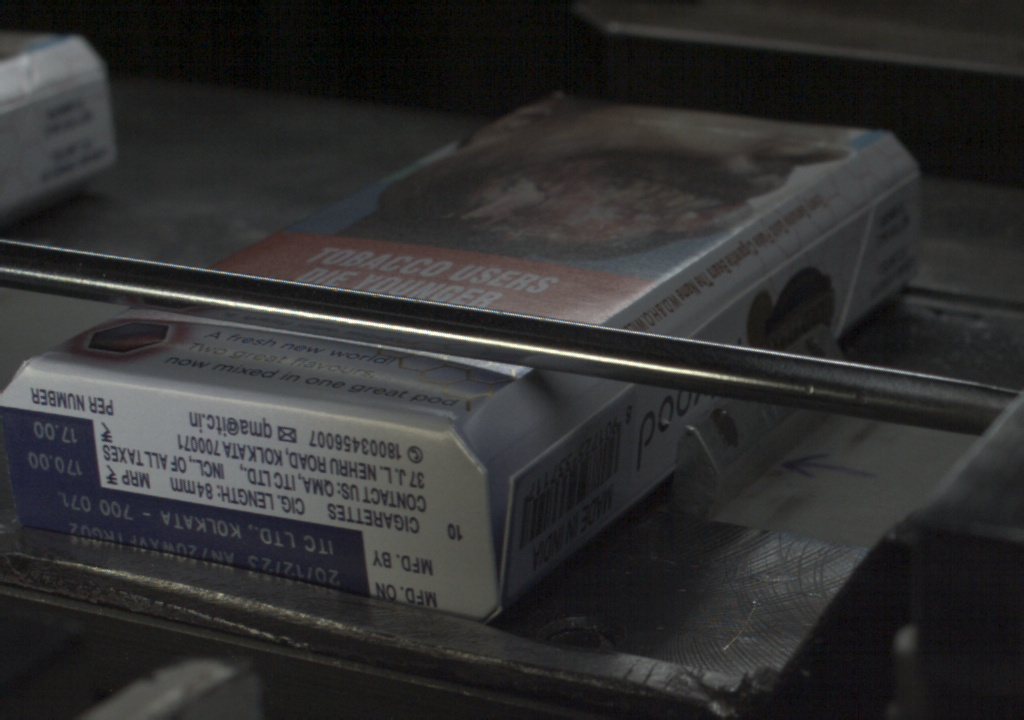g_bottom: (2, 363, 500, 621)
g_label: (10, 484, 368, 596)
g_miter: (872, 164, 918, 200)
ng_lmiter: (493, 441, 542, 569), (681, 270, 778, 333)
price: (5, 414, 99, 482)
